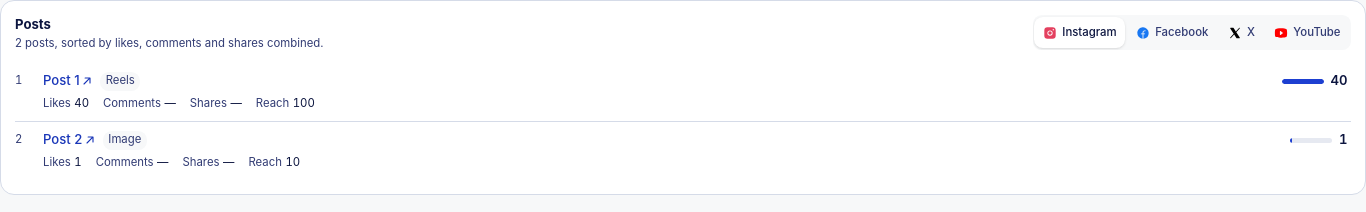
Test: SocialPostsPanel › switches platform, with that platform's own columns
Click the button "X".
click(1241, 33)  # box [1219,17,1264,48]
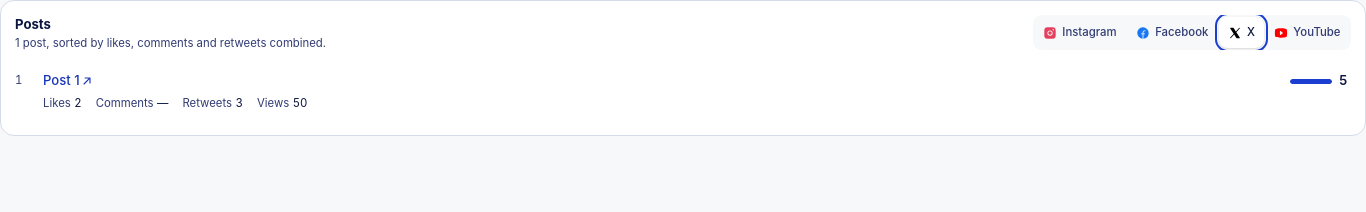
Expected: the text "Retweets" is shown, [182,96,232,112]
Expected: the text "Views" is shown, [257,96,289,112]
Expected: the text "Reach" is gone
